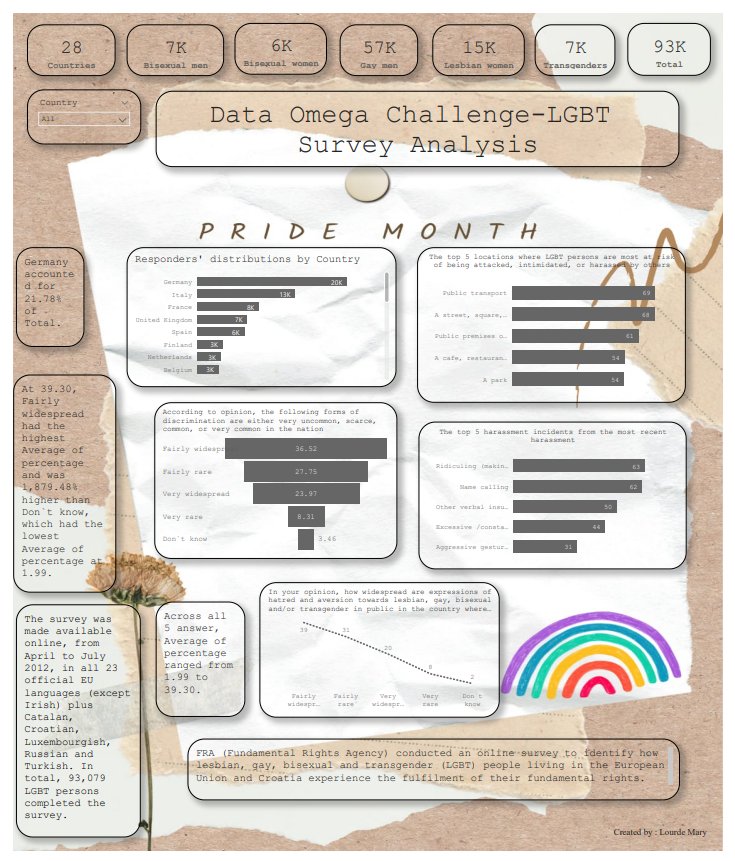

What the dashboard file says about the page in this screenshot:
{"tool":"powerbi","page":{"name":"Page 3","canvas":[1273,1500],"ordinal":0},"visuals":[{"type":"card","fields":{"Values":["Sum(SubsetSize.Total)"]},"box":[1101.5,17.2,148.9,93.9],"z":0},{"type":"card","fields":{"Values":["Sum(SubsetSize.Bisexual women)"]},"box":[396.2,17.2,164.9,91.6],"z":1000},{"type":"card","fields":{"Values":["Sum(SubsetSize.Bisexual men)"]},"box":[203.8,19.5,174,91.6],"z":2000},{"type":"card","fields":{"Values":["Sum(SubsetSize.Lesbian women)"]},"box":[751.1,19.5,164.9,91.6],"z":3000},{"type":"card","fields":{"Values":["Sum(SubsetSize.Gay men)"]},"box":[586.3,19.5,139.7,91.6],"z":4000},{"type":"card","fields":{"Values":["Sum(SubsetSize.Transgender)"]},"box":[934.4,19.5,144.3,91.6],"z":5000},{"type":"card","fields":{"Values":["CountNonNull(SubsetSize.Country)"]},"box":[25.2,19.5,158,91.6],"z":6000},{"type":"slicer","fields":{"Values":["SubsetSize.Country"]},"box":[25.2,137.4,203.8,98.5],"z":7000},{"type":"barChart","title":"Responders'' distributions by Country","fields":{"Category":["SubsetSize.Country"],"Y":["Sum(SubsetSize.Total)"]},"box":[203.3,418.3,483.3,250],"z":8000},{"type":"barChart","title":"The top 5 locations where LGBT persons are most at risk of being attacked, intimidated, or harassed by others","fields":{"Category":["Violence&Harassment.answer"],"Y":["Avg(Violence&Harassment.percentage)"]},"box":[724,419,481,277.7],"z":9000},{"type":"barChart","title":"The top 5 harassment incidents from the most recent harassment","fields":{"Category":["Violence&Harassment.answer"],"Y":["Avg(Violence&Harassment.percentage)"]},"box":[726,732,480,264],"z":10000},{"type":"funnel","title":"According to opinion, the following forms of discrimination are either very uncommon, scarce, common, or very common in the nation","fields":{"Category":["Daily_Life.answer"],"Y":["Avg(Daily_Life.percentage)"]},"box":[251.7,696.7,435,280],"z":11000},{"type":"lineChart","title":"In your opinion, how widespread are expressions of hatred and aversion towards lesbian, gay, bisexual and/or transgender in public in the country where you live?","fields":{"Category":["Daily_Life.answer"],"Y":["Avg(Daily_Life.percentage)"]},"box":[442,1018,430,242],"z":12000},{"type":"textbox","box":[6,418,122,178],"z":13000},{"type":"textbox","box":[0,646,184,390],"z":14000},{"type":"textbox","box":[256,1054,160,206],"z":15000},{"type":"textbox","box":[312,1298,882,110],"z":16000},{"type":"textbox","box":[256,138,938,136],"z":17000},{"type":"textbox","box":[1070,1452,204,48],"z":18000},{"type":"textbox","box":[5,1058.7,223.1,416.5],"z":18001}]}

Visuals, with their boxes in screenshot pixels (x1, y1, x2, y2), scaled from the page's 1273x1500 canvas onto the 735x861 screenshot:
card - Sum(SubsetSize.Total): pyautogui.locateOnScreen(636, 10, 722, 64)
card - Sum(SubsetSize.Bisexual women): pyautogui.locateOnScreen(229, 10, 324, 62)
card - Sum(SubsetSize.Bisexual men): pyautogui.locateOnScreen(118, 11, 218, 64)
card - Sum(SubsetSize.Lesbian women): pyautogui.locateOnScreen(434, 11, 529, 64)
card - Sum(SubsetSize.Gay men): pyautogui.locateOnScreen(339, 11, 419, 64)
card - Sum(SubsetSize.Transgender): pyautogui.locateOnScreen(540, 11, 623, 64)
card - CountNonNull(SubsetSize.Country): pyautogui.locateOnScreen(15, 11, 106, 64)
slicer - SubsetSize.Country: pyautogui.locateOnScreen(15, 79, 132, 135)
"Responders'' distributions by Country" barChart: pyautogui.locateOnScreen(117, 240, 396, 384)
"The top 5 locations where LGBT persons are most at risk of being attacked, intimidated, or harassed by others" barChart: pyautogui.locateOnScreen(418, 241, 696, 400)
"The top 5 harassment incidents from the most recent harassment" barChart: pyautogui.locateOnScreen(419, 420, 696, 572)
"According to opinion, the following forms of discrimination are either very uncommon, scarce, common, or very common in the nation" funnel: pyautogui.locateOnScreen(145, 400, 396, 561)
"In your opinion, how widespread are expressions of hatred and aversion towards lesbian, gay, bisexual and/or transgender in public in the country where you live?" lineChart: pyautogui.locateOnScreen(255, 584, 503, 723)
textbox: pyautogui.locateOnScreen(3, 240, 74, 342)
textbox: pyautogui.locateOnScreen(0, 371, 106, 595)
textbox: pyautogui.locateOnScreen(148, 605, 240, 723)
textbox: pyautogui.locateOnScreen(180, 745, 689, 808)
textbox: pyautogui.locateOnScreen(148, 79, 689, 157)
textbox: pyautogui.locateOnScreen(618, 833, 734, 860)
textbox: pyautogui.locateOnScreen(3, 608, 132, 847)
